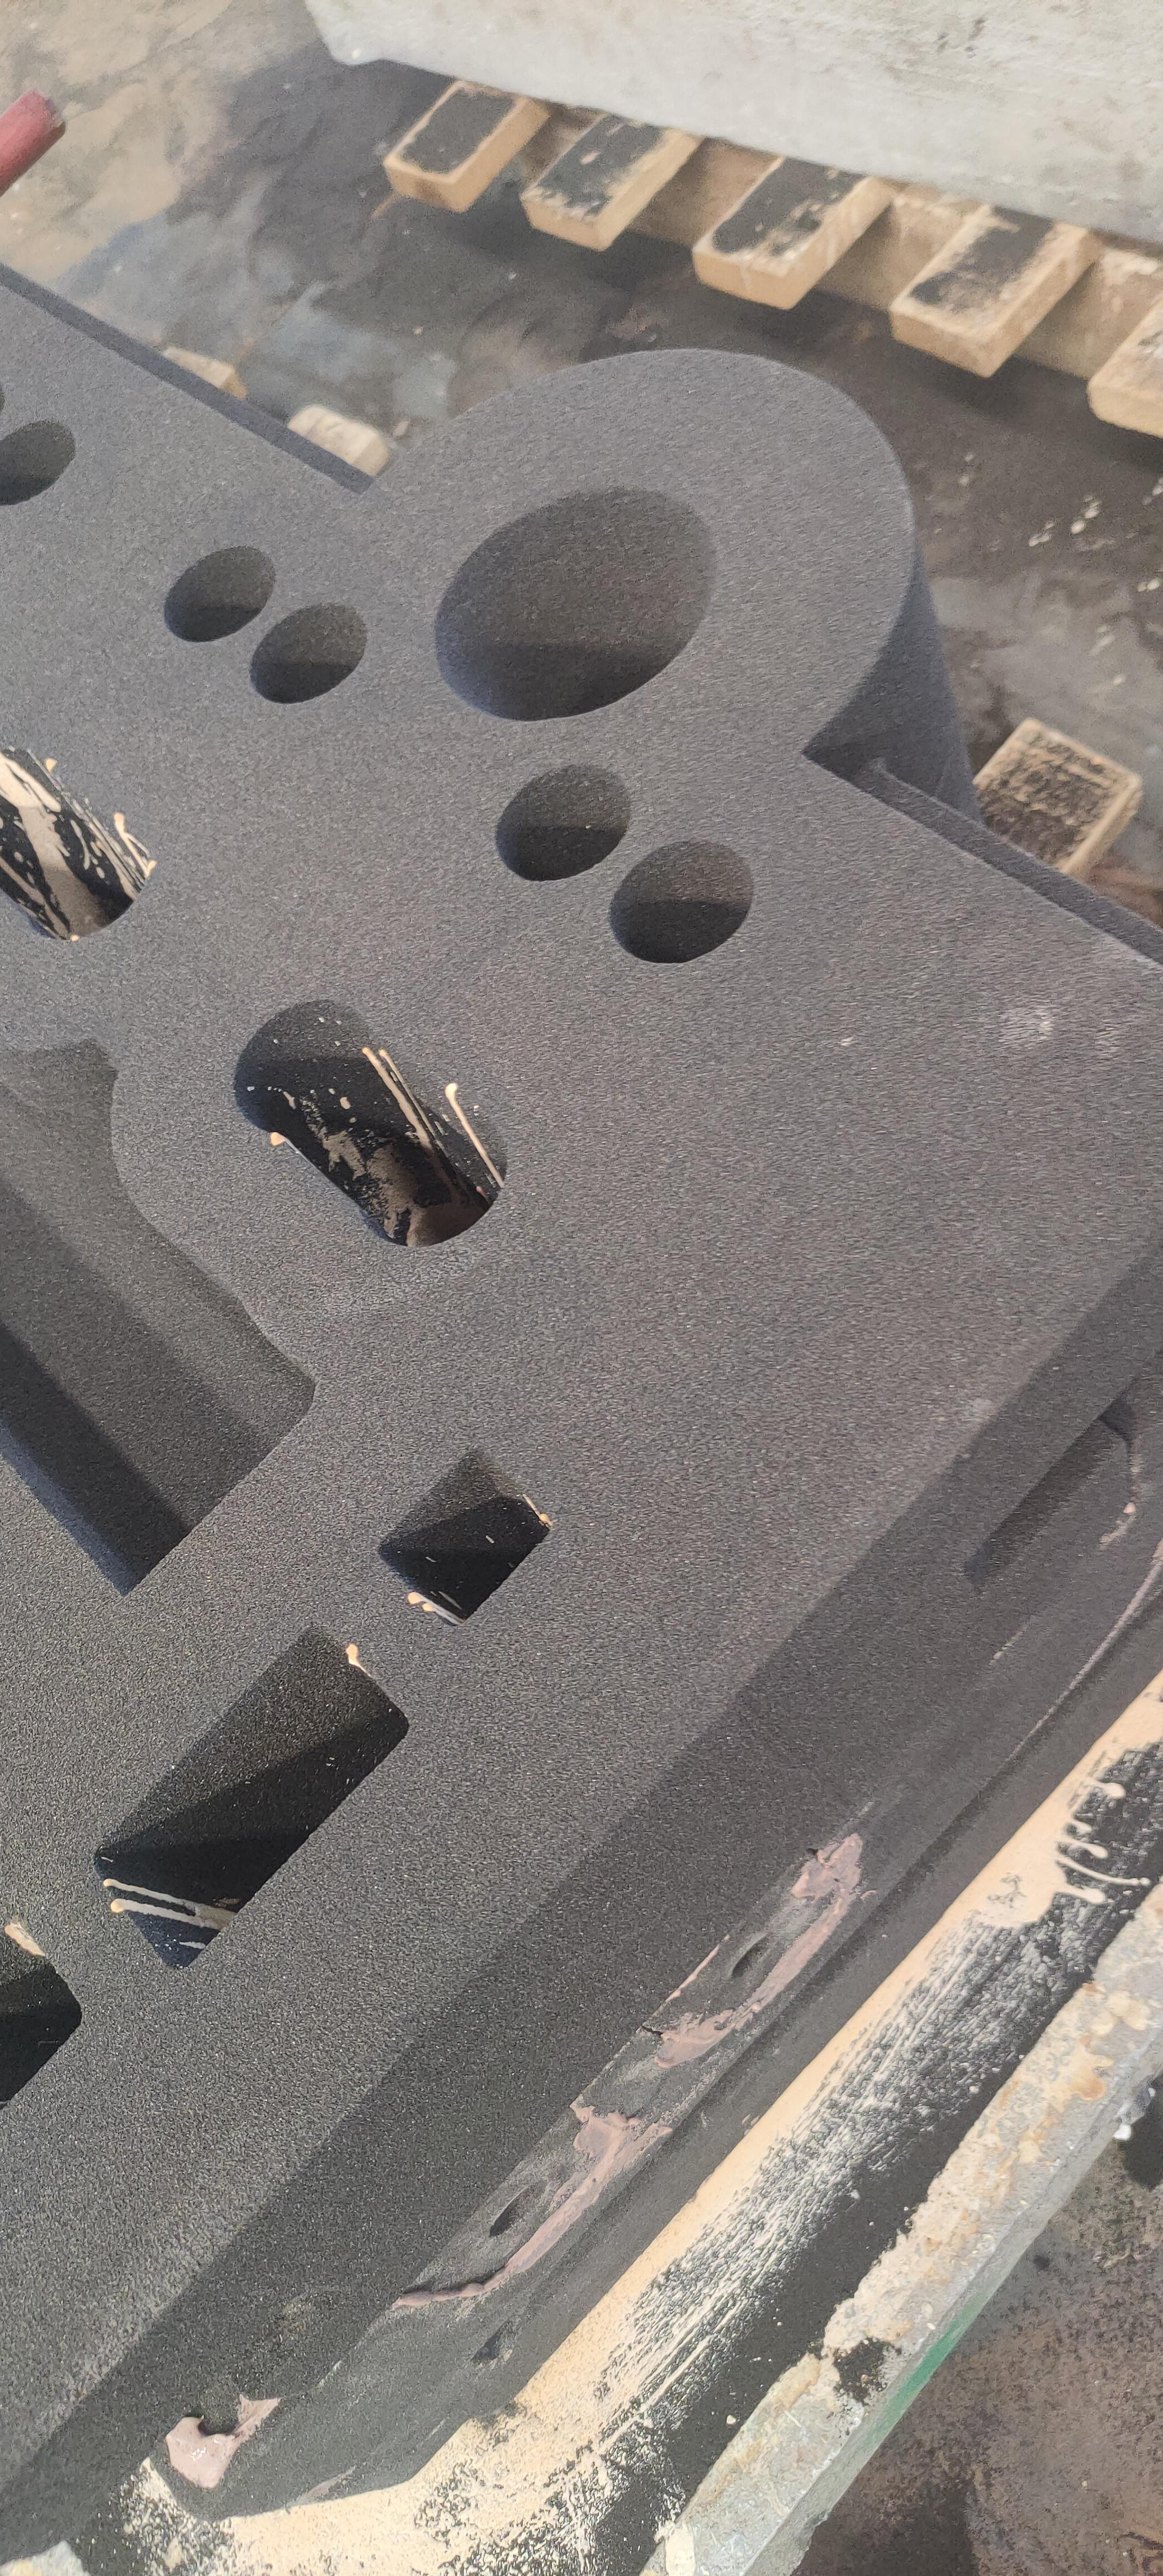pouring hole: (434, 485, 716, 723)
